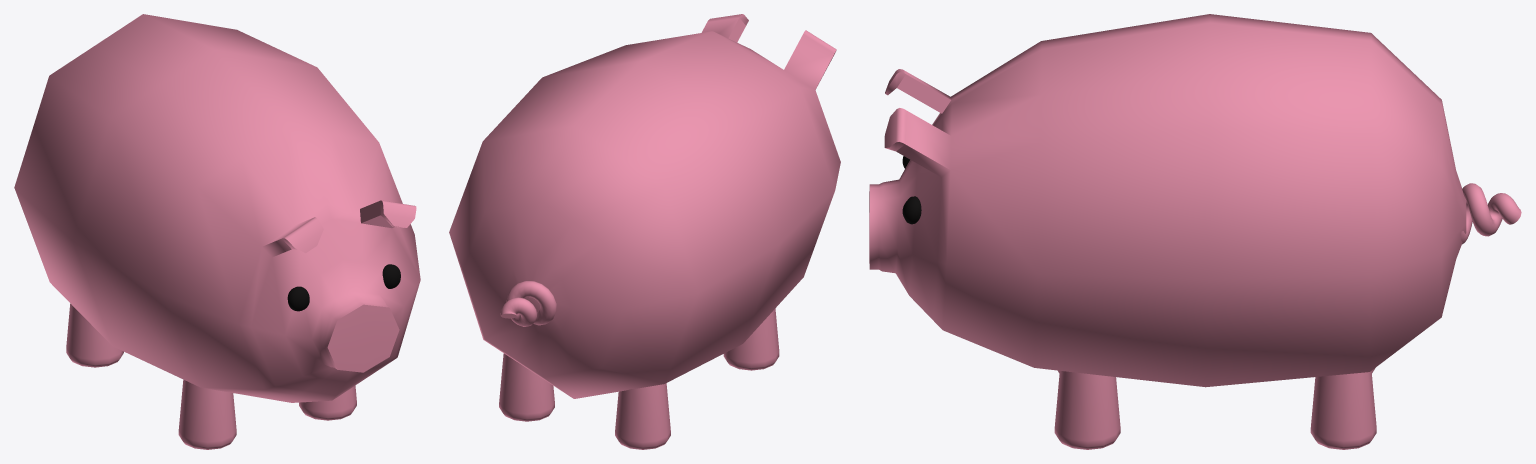
The model's file is Pig.fbx.
3 renders of one model, left to right at view 1: azimuth 30°, elevation 25°; view 2: azimuth 150°, elevation 25°; view 3: azimuth 270°, elevation 25°, orthographic. The views are drawn at different scales.
Parts seen in each view (by area): view 1: pig; view 2: pig; view 3: pig.
Boxes of the visible parts, x1=… form: pig: x1=14, y1=14, x2=420, y2=449; pig: x1=449, y1=14, x2=840, y2=449; pig: x1=869, y1=14, x2=1521, y2=449.
Bounding box in the file's own units: 160 × 181 × 280.
1 material, 1 textured.
